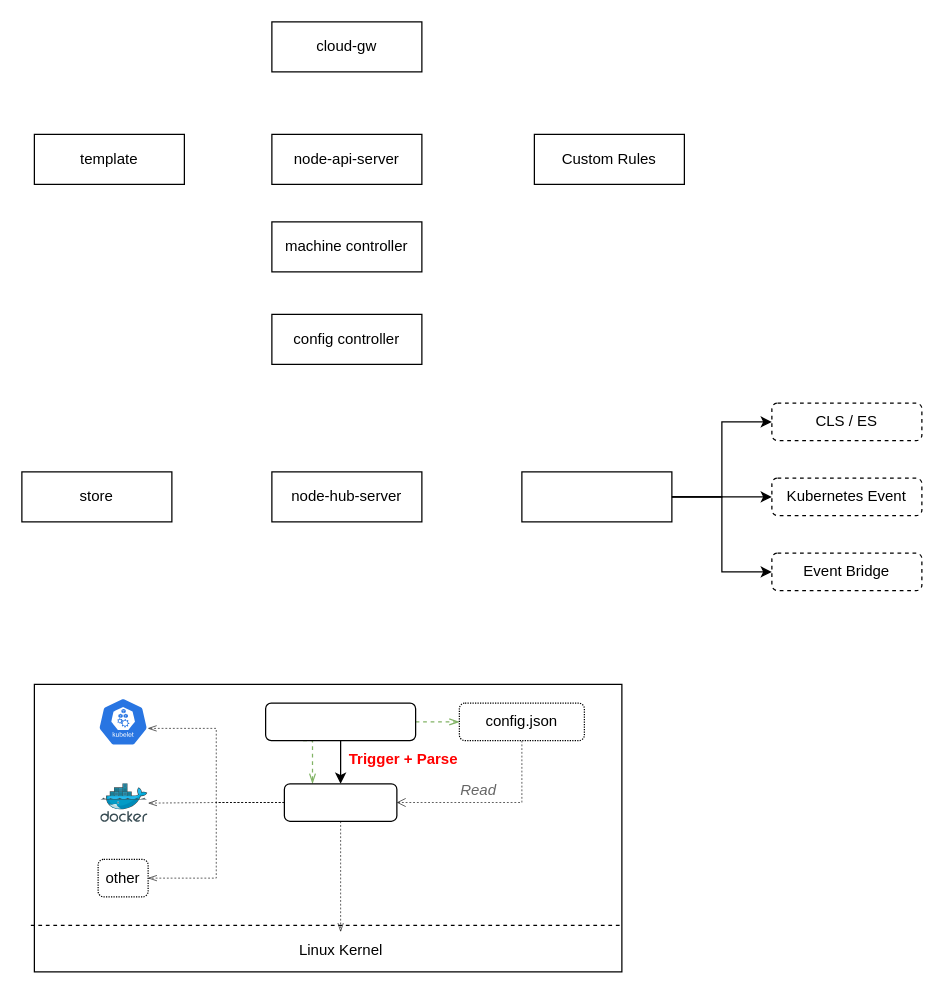
Some shapes in this 944 by 994 pixel diagram are drawn without their labels. The centre of each missing label's shape, as x and y in pixels:
"event server" belongs at point (596, 496).
"nodetool" belongs at point (340, 801).
"TKE-agent" belongs at point (340, 721).
